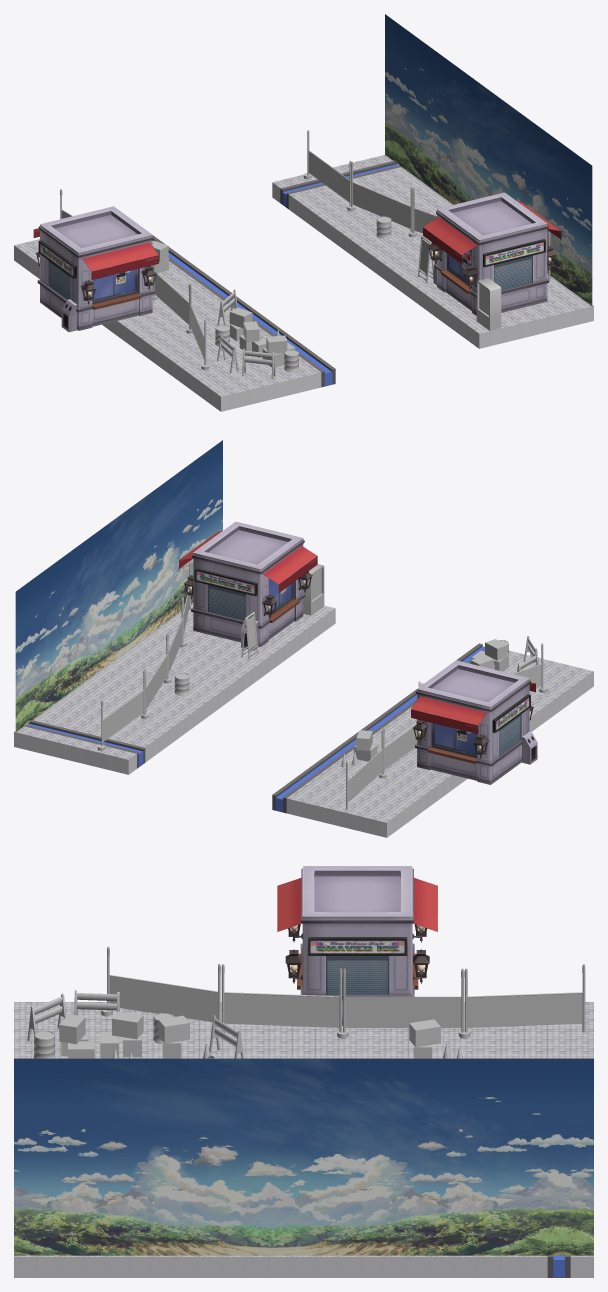
The model's file is Bg_Map.FBX.
The picture shows the model from 3 angles, top to bottom: view 1: azimuth 30°, elevation 25°; view 2: azimuth 150°, elevation 25°; view 3: azimuth 270°, elevation 25°; orthographic projection. The views are drawn at different scales.
Parts seen in each view (by area): view 1: Bg_Map; view 2: Bg_Map; view 3: Bg_Map.
Part boxes in pixels (x1=…): Bg_Map: x1=14, y1=14, x2=593, y2=411; Bg_Map: x1=14, y1=440, x2=593, y2=837; Bg_Map: x1=14, y1=866, x2=593, y2=1277.
Size of the model in its own units: 2934 by 2500 by 1038.
